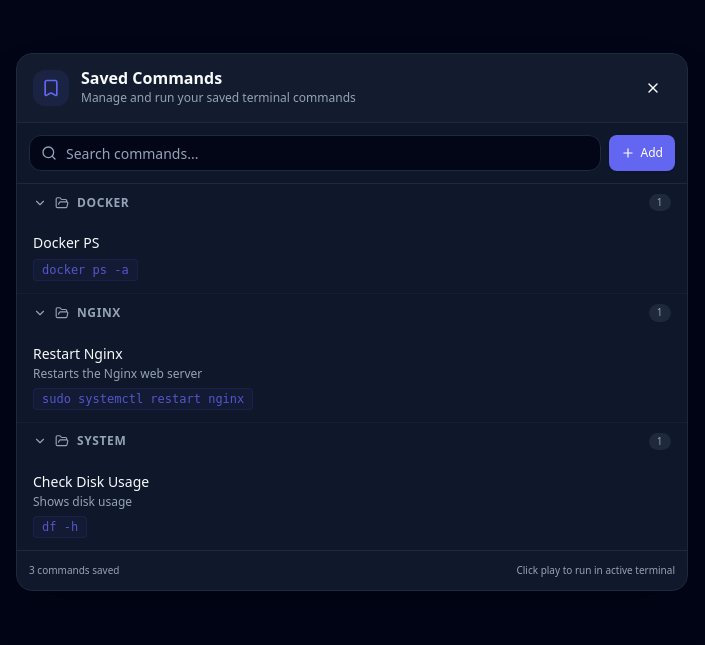
SavedCommandsModal › shows add form when Add button clicked
Expected: the heading "Saved Commands" is shown, [81,67,222,89]
Click the button "Add": {"x": 642, "y": 153} [609,135,675,171]
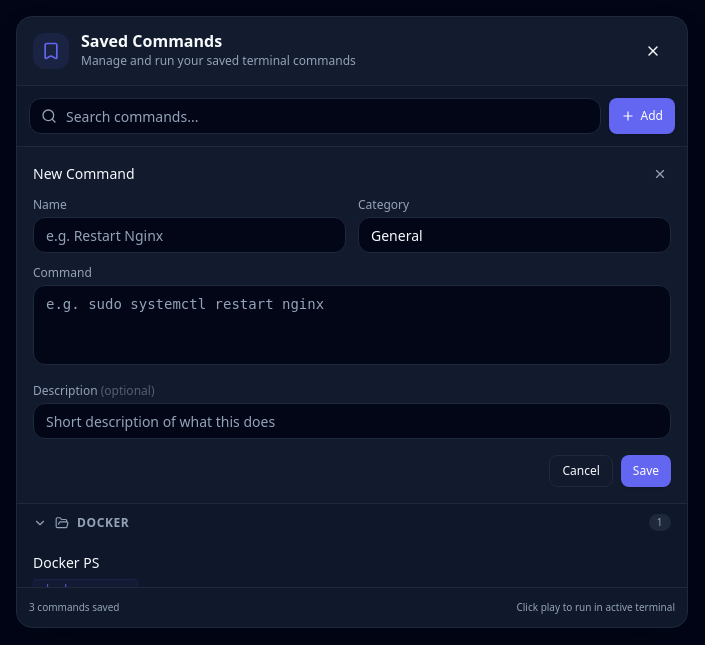
Now the heading "New Command" is shown, box [33,164,134,184]
